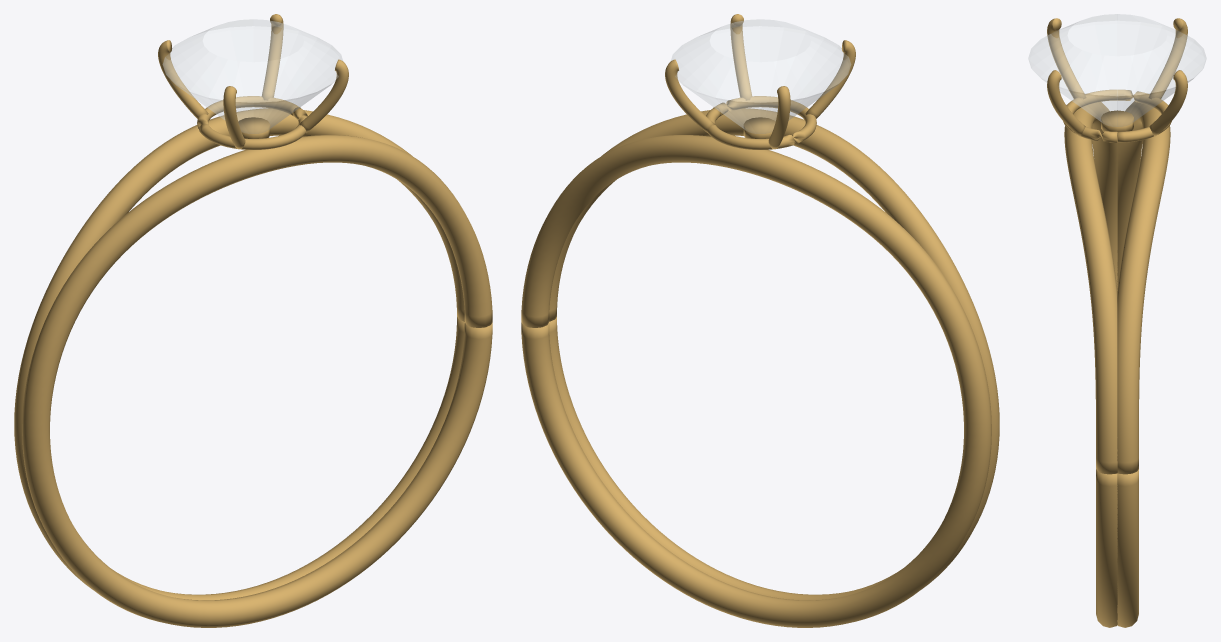
Rendered from bands-split-shank.glb.
3 views of the same model, side by side, from view 1: azimuth 30°, elevation 25°; view 2: azimuth 150°, elevation 25°; view 3: azimuth 270°, elevation 25° (orthographic).
Parts seen in each view (by area): view 1: Band strand, Band strand.001, Gem, Lower gallery, Prong.001, Prong, Prong.003, Prong.002; view 2: Band strand.001, Band strand, Gem, Lower gallery, Prong.002, Prong.003, Prong, Prong.001; view 3: Band strand, Band strand.001, Gem, Lower gallery, Prong.001, Prong.002, Prong, Prong.003, Head stem.
Part boxes in pixels (box(x1,y1,x2,y2)): Band strand: box(22, 135, 492, 627); Band strand.001: box(14, 108, 464, 600); Gem: box(163, 19, 342, 133); Lower gallery: box(197, 96, 307, 149); Prong.001: box(158, 40, 208, 118); Prong: box(262, 14, 283, 100); Prong.003: box(298, 59, 348, 132); Prong.002: box(223, 86, 245, 149); Band strand.001: box(521, 135, 991, 627); Band strand: box(549, 108, 999, 600); Gem: box(671, 19, 850, 133); Lower gallery: box(706, 96, 816, 149); Prong.002: box(805, 40, 855, 118); Prong.003: box(730, 14, 751, 100); Prong: box(665, 59, 715, 132); Prong.001: box(768, 86, 790, 149); Band strand: box(1064, 102, 1117, 627); Band strand.001: box(1117, 101, 1170, 627); Gem: box(1028, 14, 1206, 126); Lower gallery: box(1063, 89, 1171, 142); Prong.001: box(1148, 18, 1187, 99); Prong.002: box(1047, 18, 1086, 99); Prong: box(1149, 70, 1187, 136); Prong.003: box(1047, 70, 1085, 136); Head stem: box(1101, 110, 1133, 131).
Bounding box in the file's own units: 19.3 × 22.79 × 6.5.
